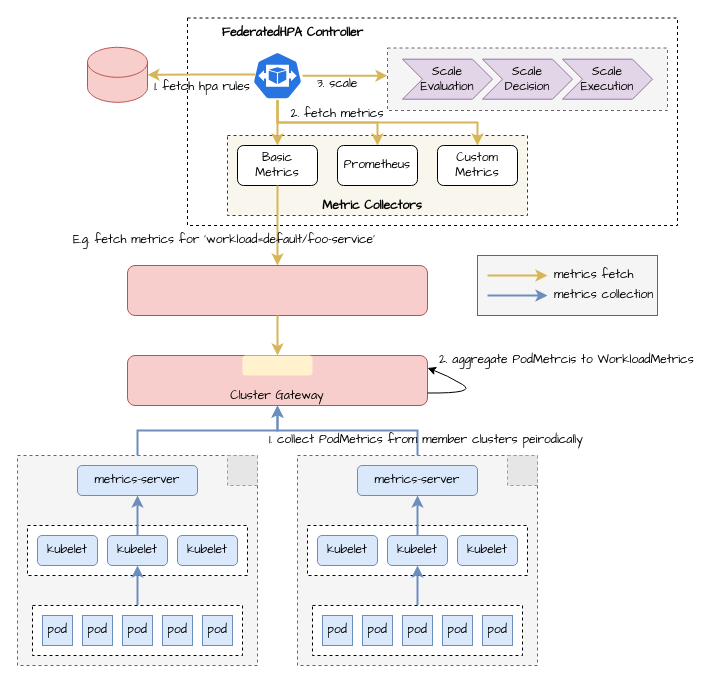
The diagram is 715 pixels wide and 683 high, and some of its shapes have lost their labels. Grey dashed boxes stand in for pictures. Here are the shapes that lost their labels. From the top down, the centre of each, then its label:
At (x=117, y=74): "DB".
At (x=277, y=290): "MultiCluster APIServer".
At (x=277, y=365): "cache".
